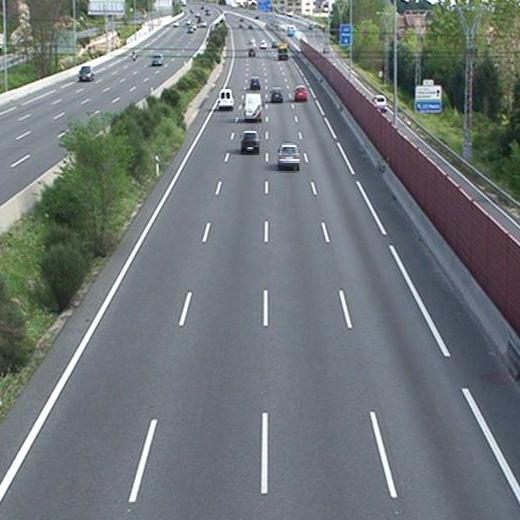car: (276, 143, 300, 168), (239, 129, 262, 153), (270, 87, 284, 104), (294, 86, 308, 100), (249, 76, 262, 90)
small-truck: (278, 43, 289, 58)
van: (244, 92, 262, 121), (218, 90, 235, 108)
